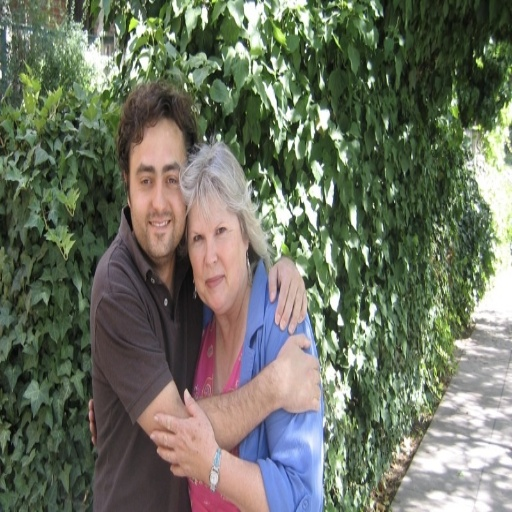hand: (147, 384, 241, 488), (272, 329, 320, 415), (264, 256, 307, 333), (87, 397, 98, 448)
